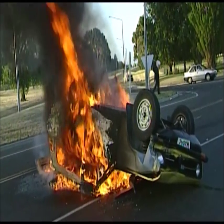fire_h: (45, 1, 113, 185), (96, 169, 131, 197), (51, 174, 80, 192), (116, 78, 130, 107)
fire_l: (44, 158, 55, 173)
